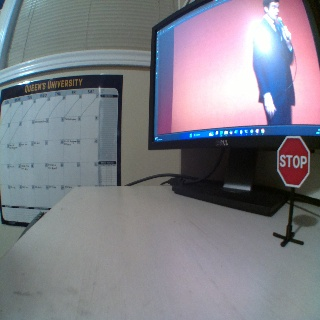sign_stop: (278, 135, 309, 186)
